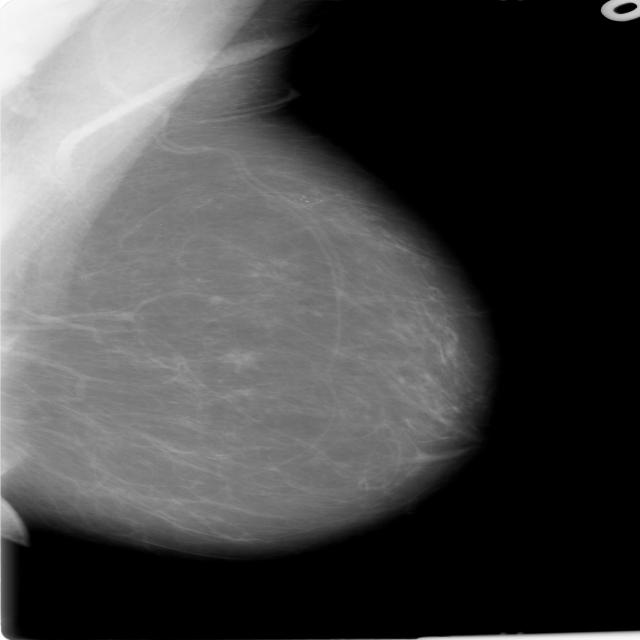normal: (0, 91, 483, 569)
